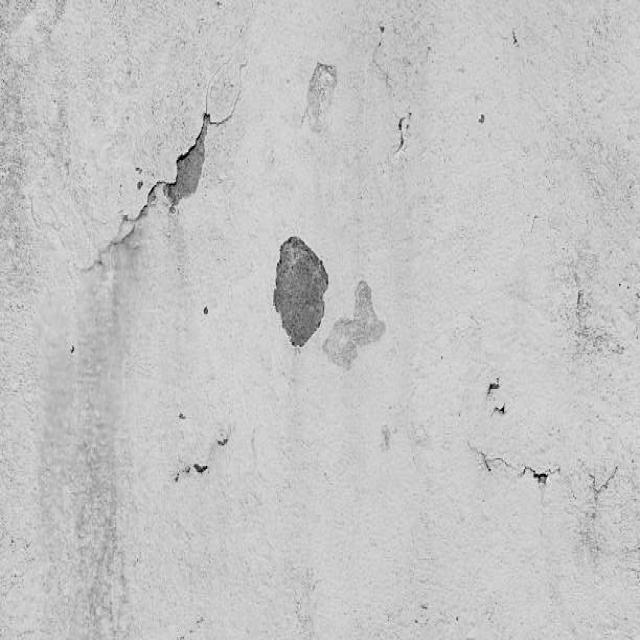peeling paint: (68, 26, 640, 568)
